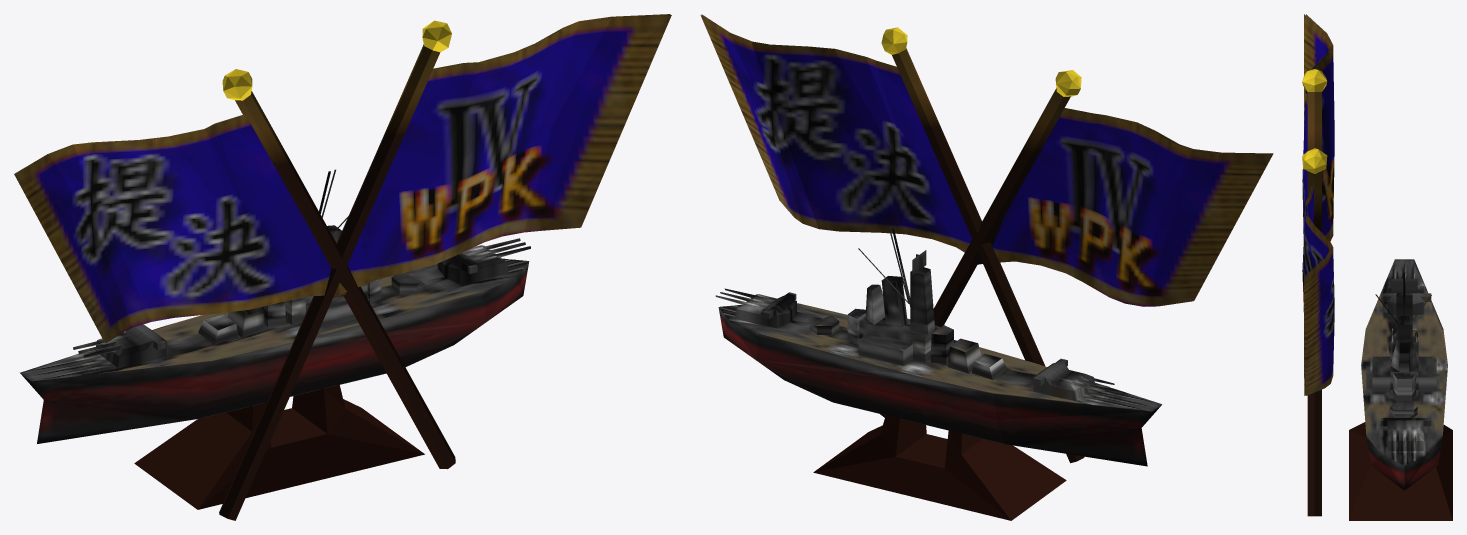
File: tk4pk.ico.obj
3 views of the same model, side by side, from view 1: azimuth 30°, elevation 25°; view 2: azimuth 150°, elevation 25°; view 3: azimuth 270°, elevation 25° (orthographic). The views are drawn at different scales.
Size of the model in its own units: 4.98 by 3.26 by 1.21.
1 material, 1 textured.
